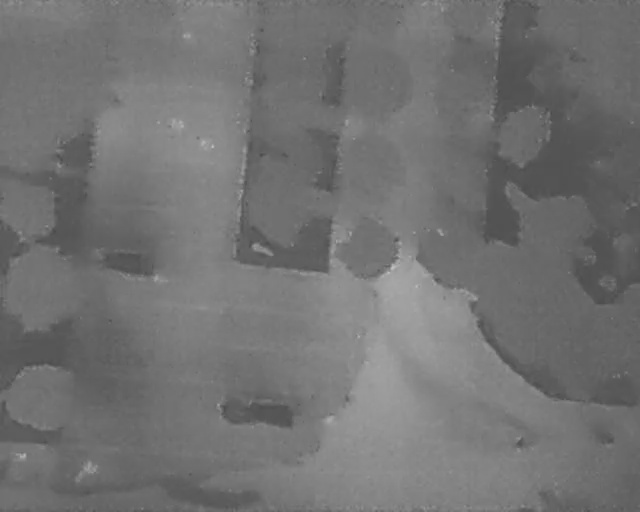Car: (214, 392, 295, 430), (95, 246, 156, 278)
